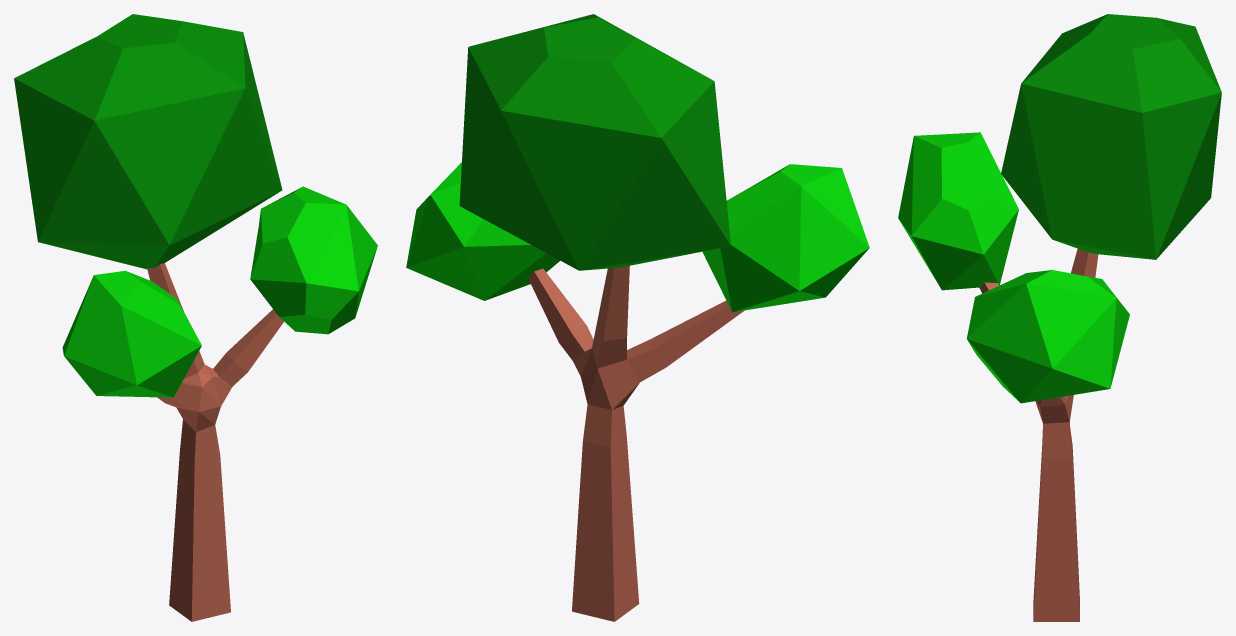
File: tree_5b.fbx
3 views of the same model, side by side, from view 1: azimuth 30°, elevation 25°; view 2: azimuth 150°, elevation 25°; view 3: azimuth 270°, elevation 25° (orthographic). The views are drawn at different scales.
Parts seen in each view (by area): view 1: tree_5b; view 2: tree_5b; view 3: tree_5b.
Part boxes in pixels (x1=…): tree_5b: x1=14, y1=14, x2=377, y2=621; tree_5b: x1=406, y1=14, x2=869, y2=621; tree_5b: x1=898, y1=14, x2=1221, y2=621.
Size of the model in its own units: 430 by 625 by 320.
